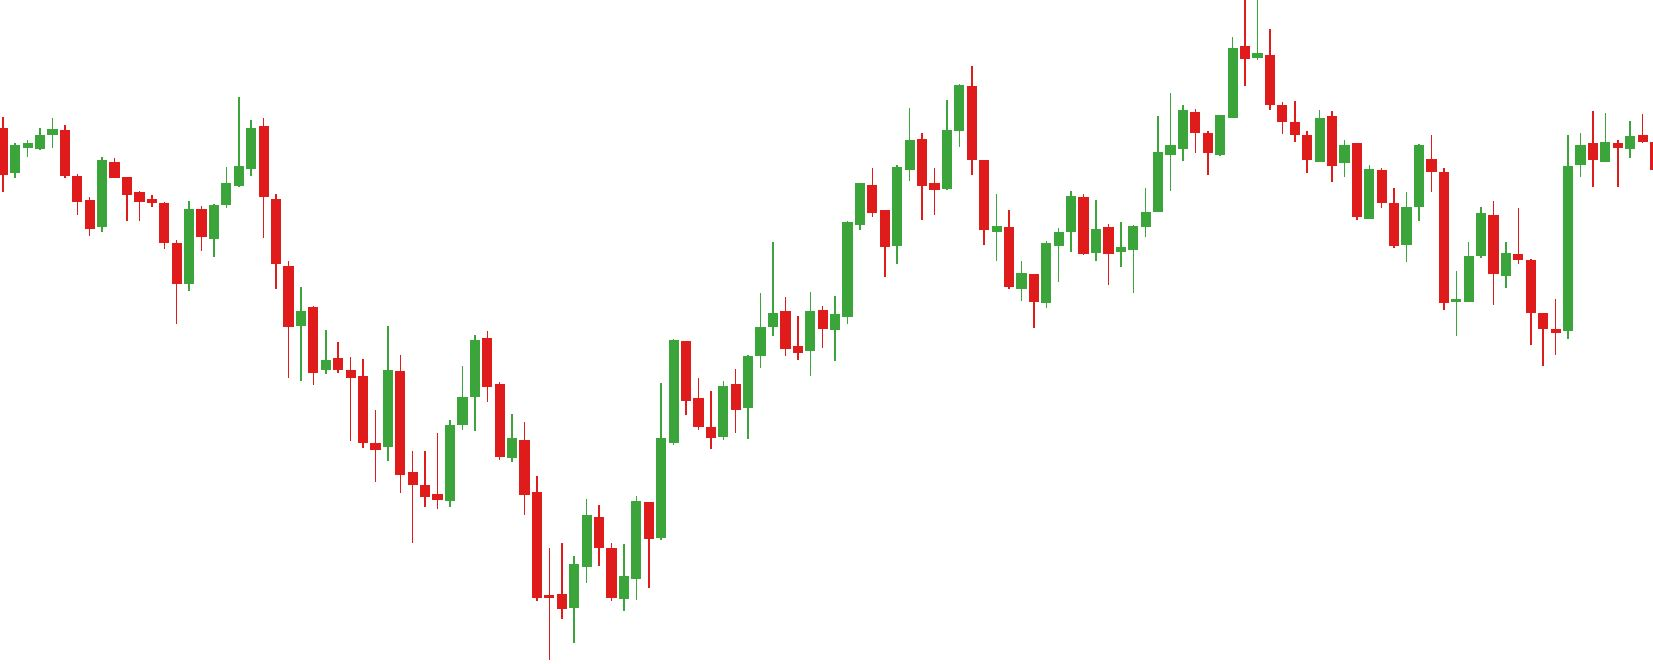buy: (407, 412, 594, 664)
sell: (97, 97, 247, 248)
